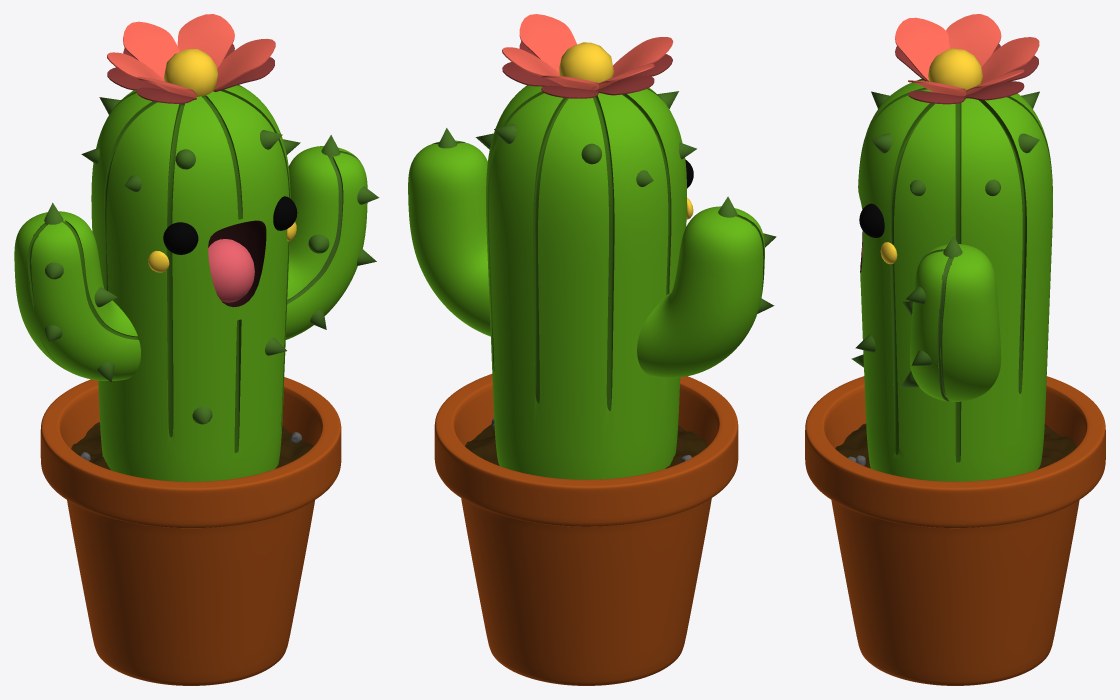
File: happy-cactus.glb
The picture shows the model from 3 angles, left to right: view 1: azimuth 30°, elevation 25°; view 2: azimuth 150°, elevation 25°; view 3: azimuth 270°, elevation 25°; orthographic projection.
Parts seen in each view (by area): view 1: Cactus Body, pot, left arm, right arm, Head petals, Cone.002, tongue, Head bauble, Eyes, Circle, Cone.001, Cone.003; view 2: Cactus Body, pot, left arm, right arm, Head petals, Head bauble, Circle, Cone.001, Cone.002; view 3: Cactus Body, pot, right arm, Head petals, Head bauble, Circle, Cone.001, Cone.002, Eyes.
Part boxes in pixels (x1,y1,x2,y2): Cactus Body: (91, 85, 290, 481); pot: (40, 377, 341, 685); left arm: (14, 211, 140, 380); right arm: (285, 146, 367, 339); Head petals: (107, 14, 275, 103); Cone.002: (44, 135, 379, 382); tongue: (208, 239, 254, 302); Head bauble: (164, 49, 217, 96); Eyes: (163, 196, 297, 254); Circle: (71, 422, 313, 470); Cone.001: (81, 97, 300, 191); Cone.003: (192, 338, 286, 424); Cactus Body: (486, 85, 686, 479); pot: (434, 374, 738, 685); left arm: (637, 206, 764, 377); right arm: (408, 140, 490, 336); Head petals: (502, 14, 673, 98); Head bauble: (559, 42, 613, 82); Circle: (465, 424, 707, 468); Cone.001: (475, 91, 696, 186); Cone.002: (438, 128, 776, 313); Cactus Body: (858, 78, 1052, 481); pot: (805, 376, 1105, 685); right arm: (909, 244, 1001, 401); Head petals: (895, 14, 1039, 104); Head bauble: (928, 48, 982, 90); Circle: (835, 423, 1076, 469); Cone.001: (871, 91, 1039, 196); Cone.002: (899, 236, 962, 387); Eyes: (859, 203, 884, 237).
Size of the model in its own units: 1.97 by 3.31 by 1.51.
